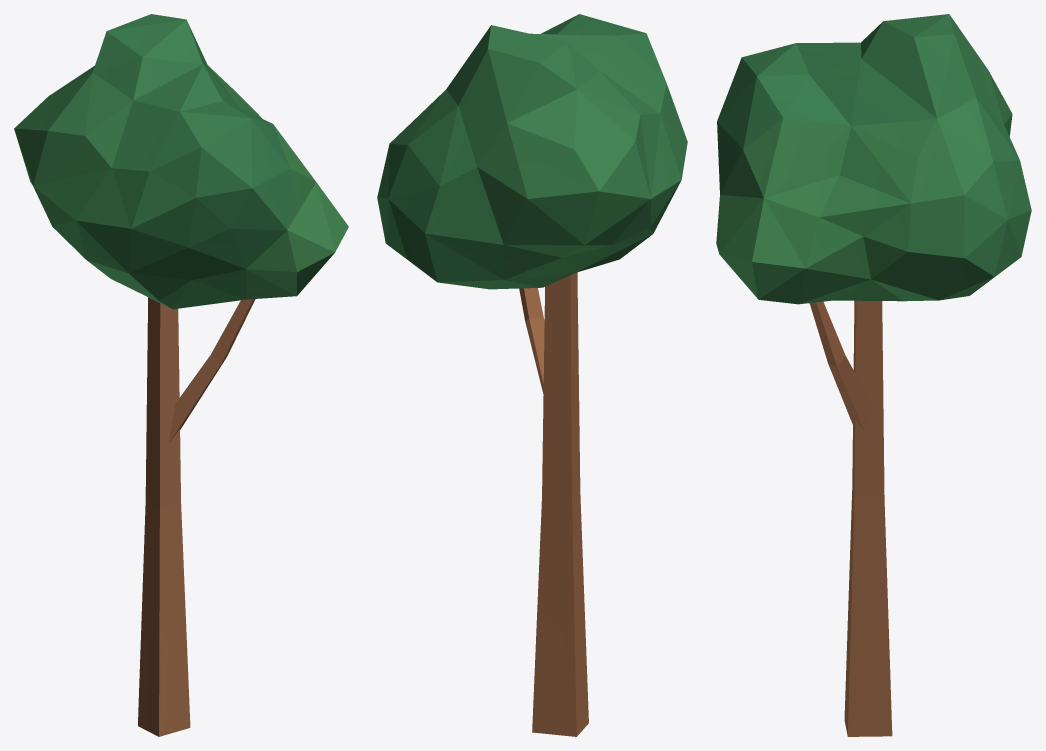
The model's file is tree2.fbx.
3 views of the same model, side by side, from view 1: azimuth 30°, elevation 25°; view 2: azimuth 150°, elevation 25°; view 3: azimuth 270°, elevation 25° (orthographic). The views are drawn at different scales.
Parts seen in each view (by area): view 1: tree-tall; view 2: tree-tall; view 3: tree-tall.
Boxes of the visible parts, x1,y1,x2,y2 form: tree-tall: (14,14,348,736); tree-tall: (377,14,687,736); tree-tall: (716,14,1031,736).
Size of the model in its own units: 212 by 570 by 228.
Materials: 1 (1 with a texture image).
